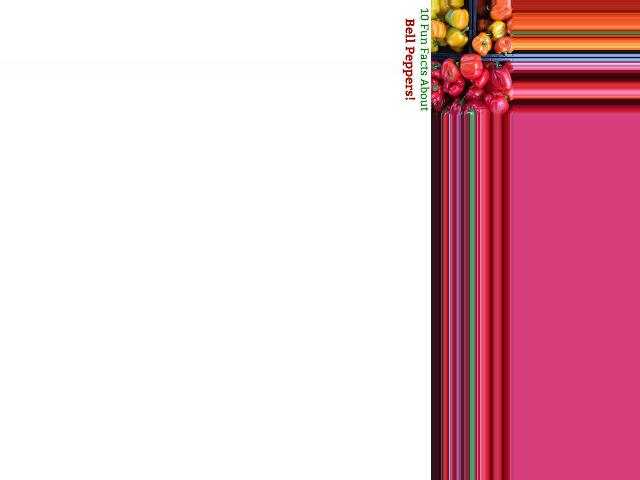bell_pepper: (427, 73, 447, 103)
